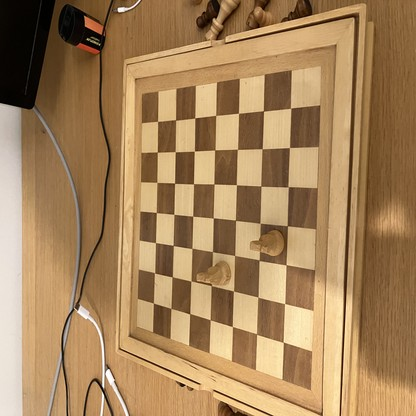knight_white: (251, 230, 285, 255), (196, 262, 231, 283)
pawn_white: (253, 7, 275, 28)
